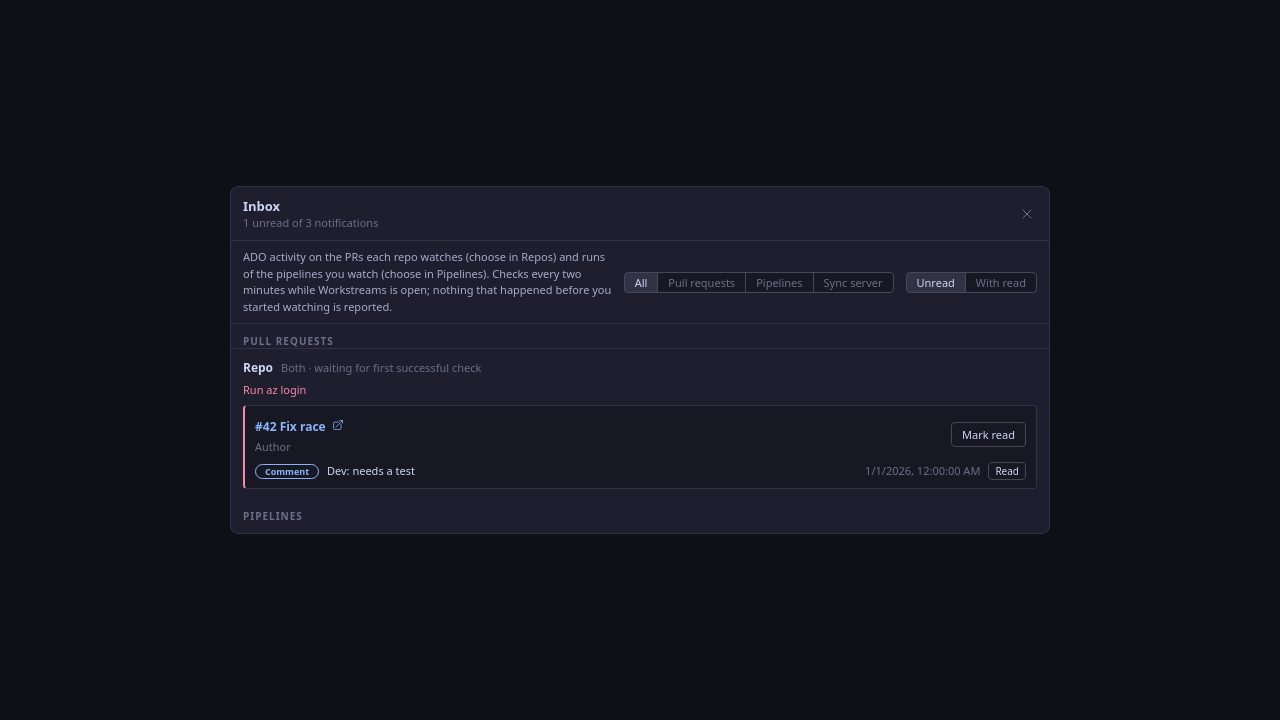
Inbox, pull requests › hiding read notifications › reveals read notifications when switched to All, and hides them again
Click the button "With read" at (1001, 282), box [965,272,1037,292]
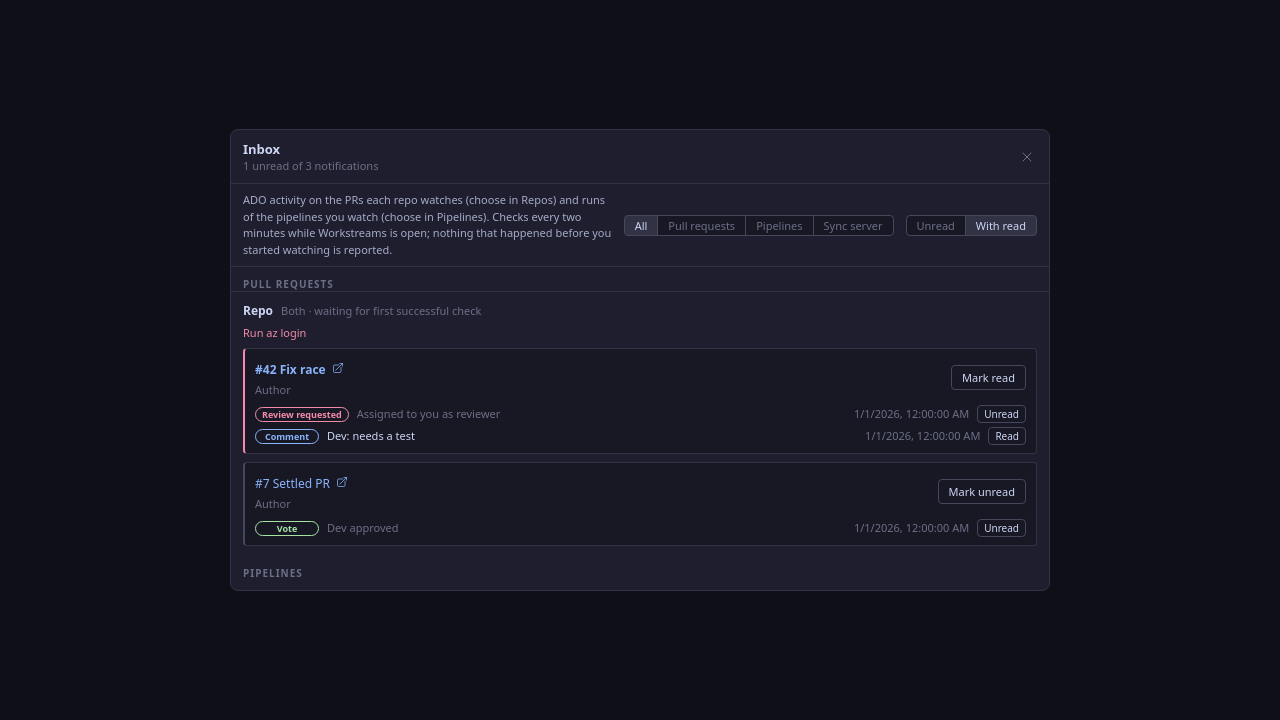
Expected: the list item with test id "pr-notification-old" is shown, [255,405,1026,423]
Expected: the element with test id "pr-group-p-7" is shown, [243,462,1037,546]
Click the 1st button "Unread" at (936, 225), box [906,214,966,236]
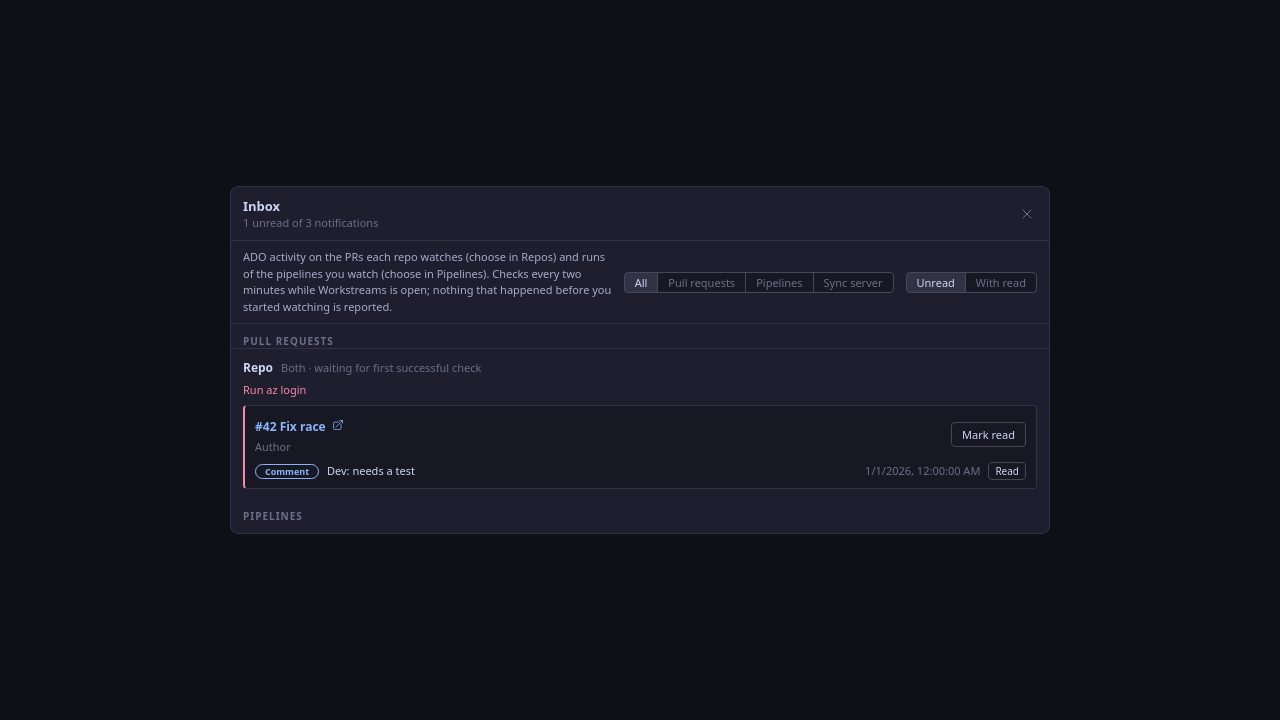
Expected: the element with test id "pr-group-p-7" is gone
